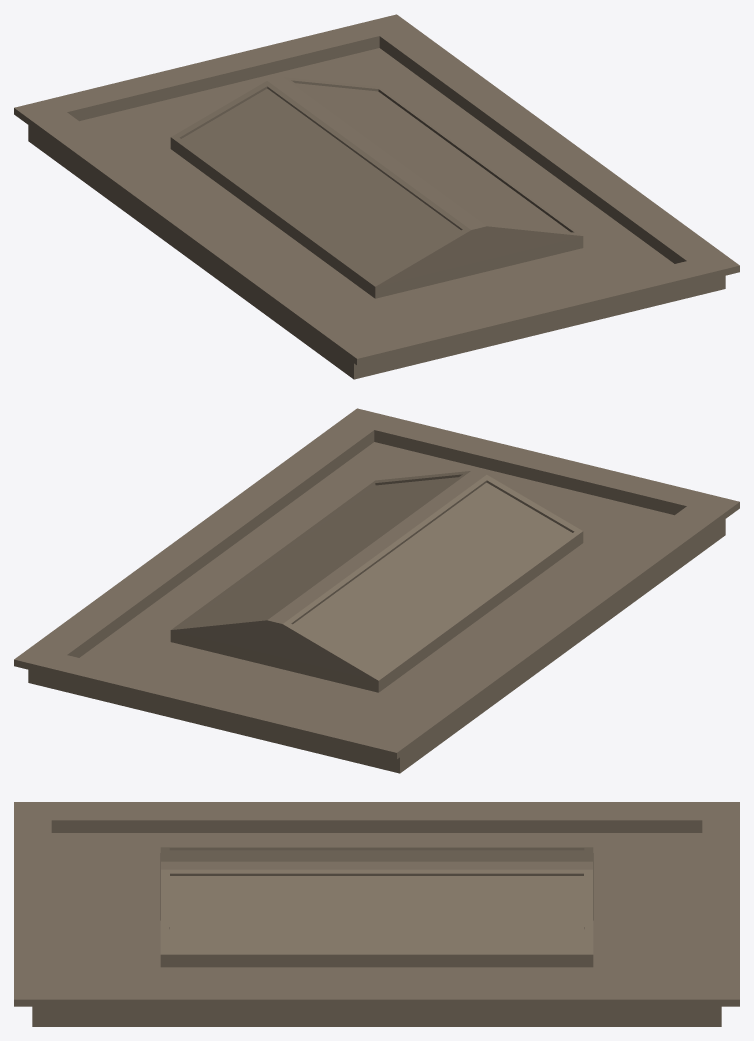
File: Apt8_Roof.fbx
The picture shows the model from 3 angles, top to bottom: view 1: azimuth 30°, elevation 25°; view 2: azimuth 150°, elevation 25°; view 3: azimuth 270°, elevation 25°; orthographic projection. The views are drawn at different scales.
Parts seen in each view (by area): view 1: Apt8_Roof; view 2: Apt8_Roof; view 3: Apt8_Roof.
Boxes of the visible parts, x1,y1,x2,y2 form: Apt8_Roof: (14, 14, 739, 379); Apt8_Roof: (14, 408, 739, 773); Apt8_Roof: (14, 802, 739, 1026).
Bounding box in the file's own units: 617 × 94.84 × 958.
